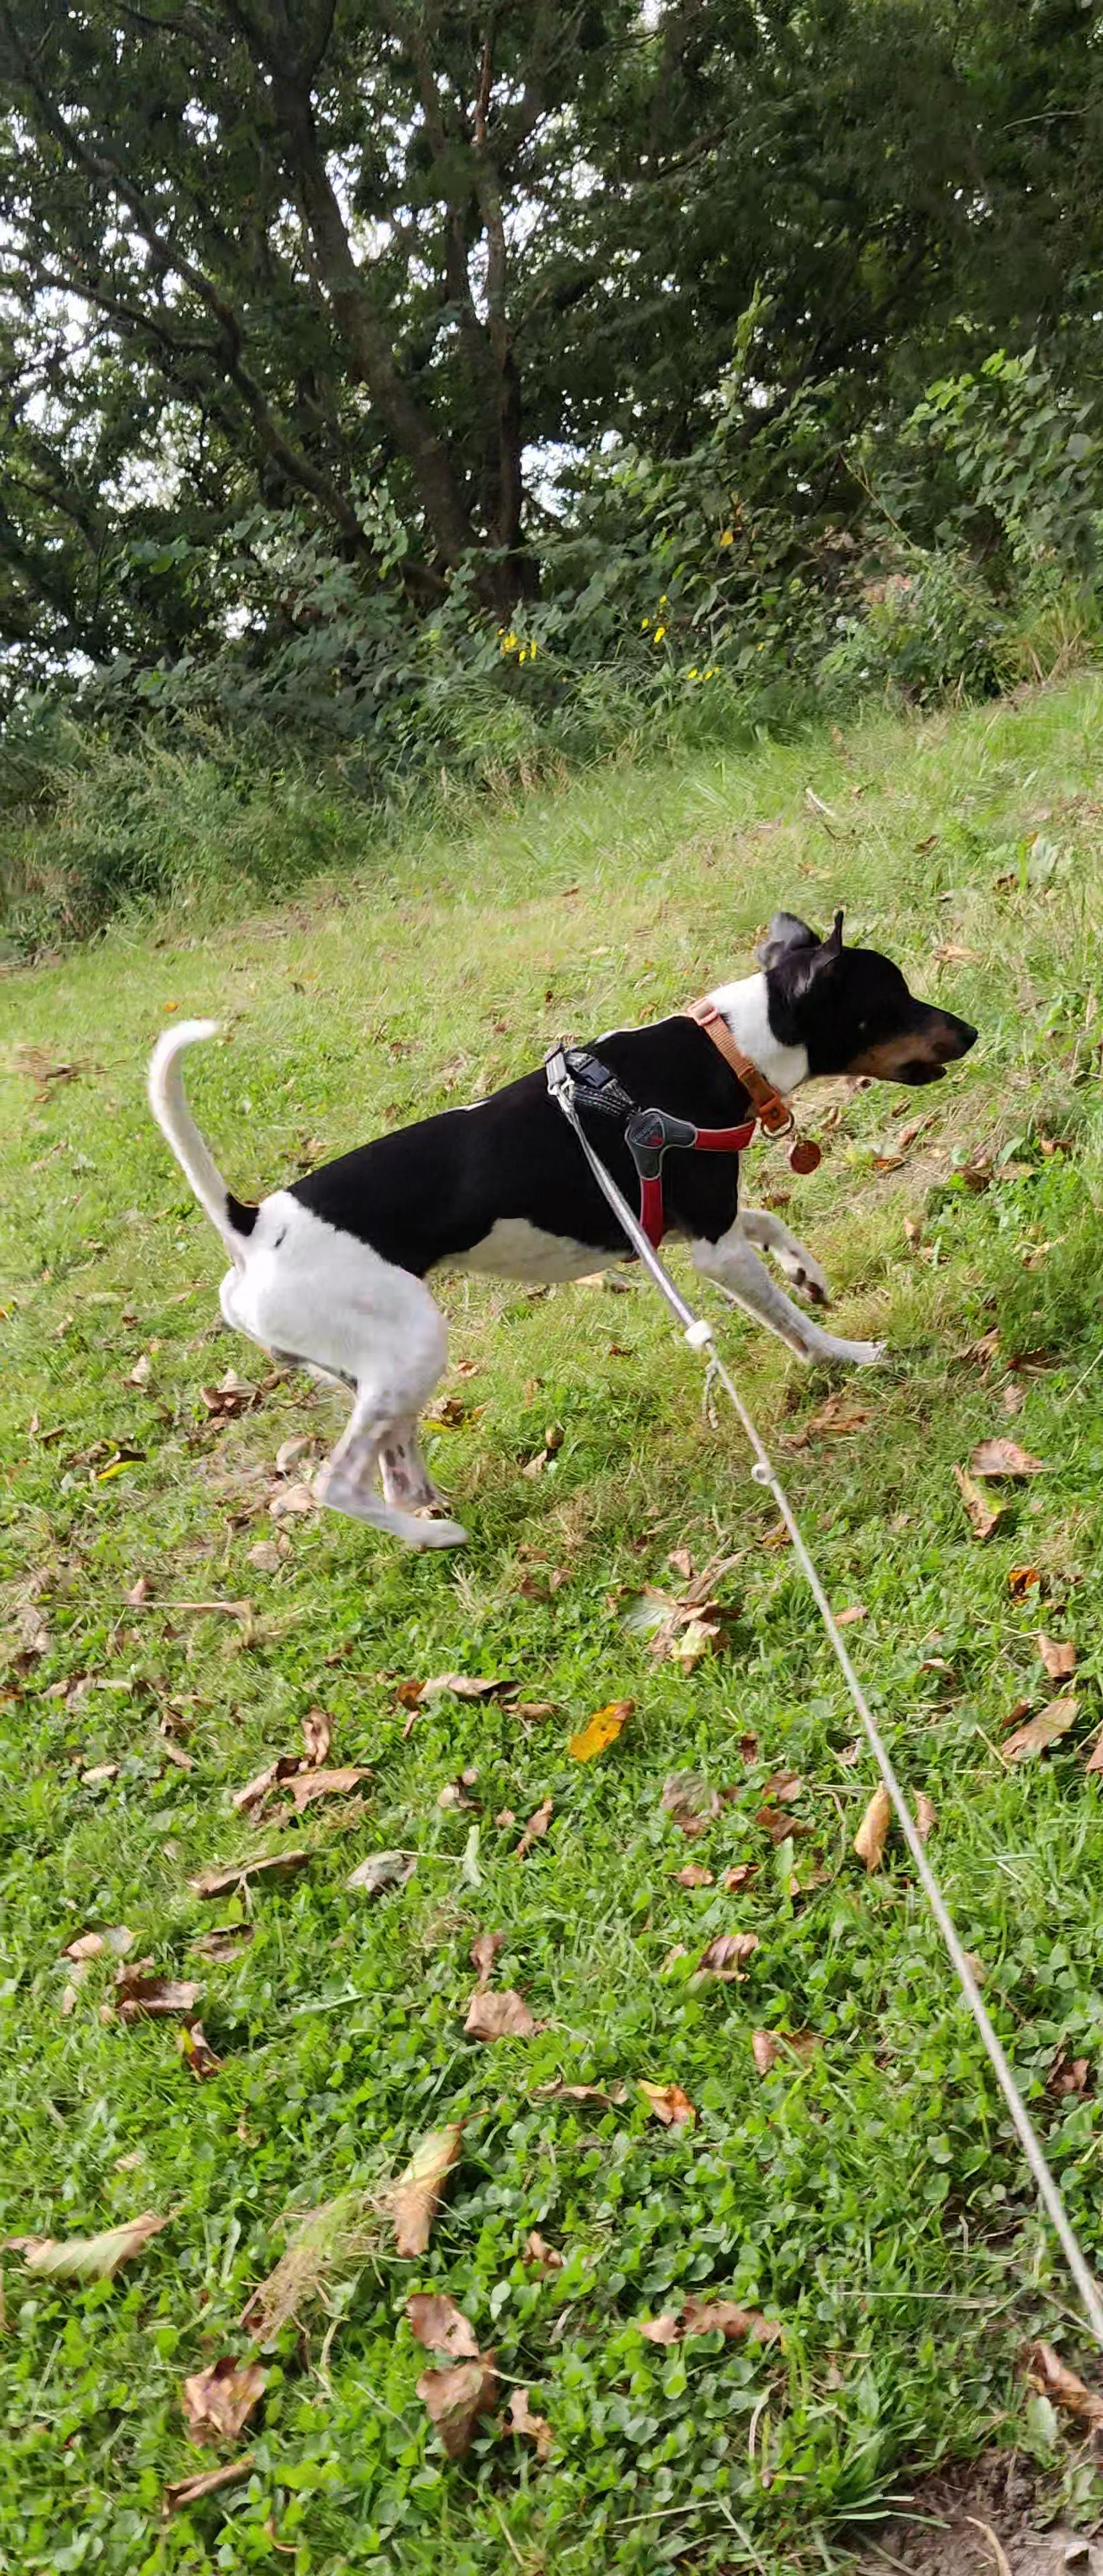Dog: (135, 897, 993, 1556)
